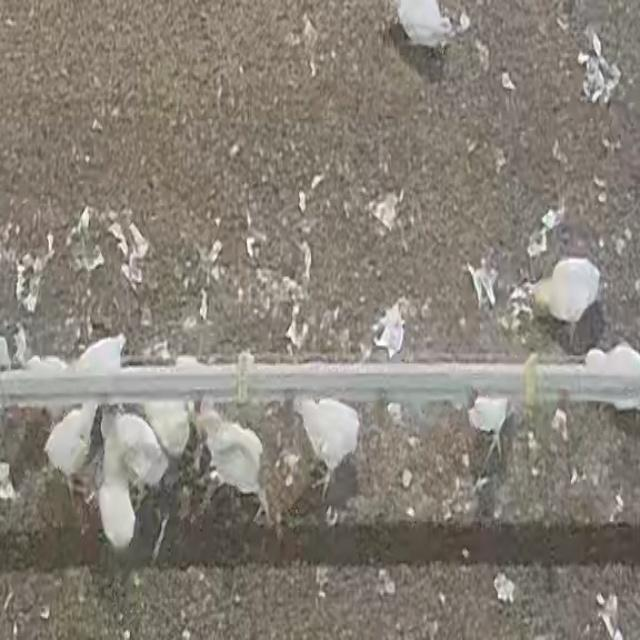chicken: (193, 406, 276, 526), (293, 397, 367, 498)
